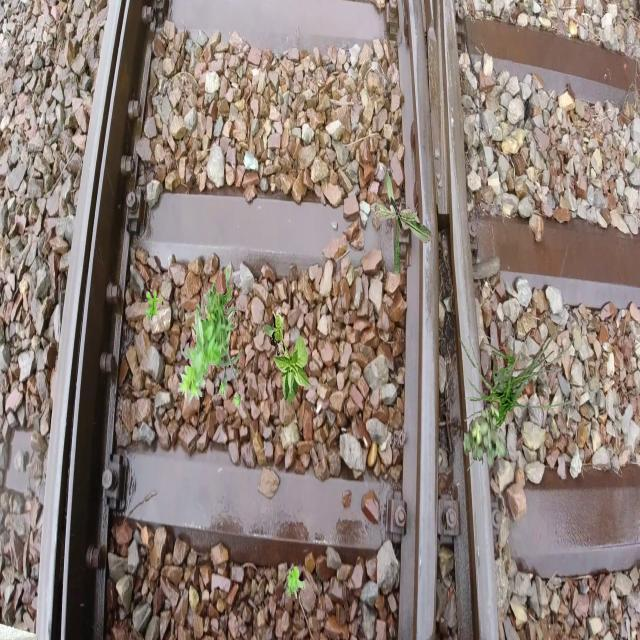Plant: (457, 308, 576, 472), (178, 267, 242, 410), (369, 165, 433, 277), (264, 311, 312, 406), (463, 402, 506, 468), (286, 566, 306, 599), (146, 289, 164, 321)
